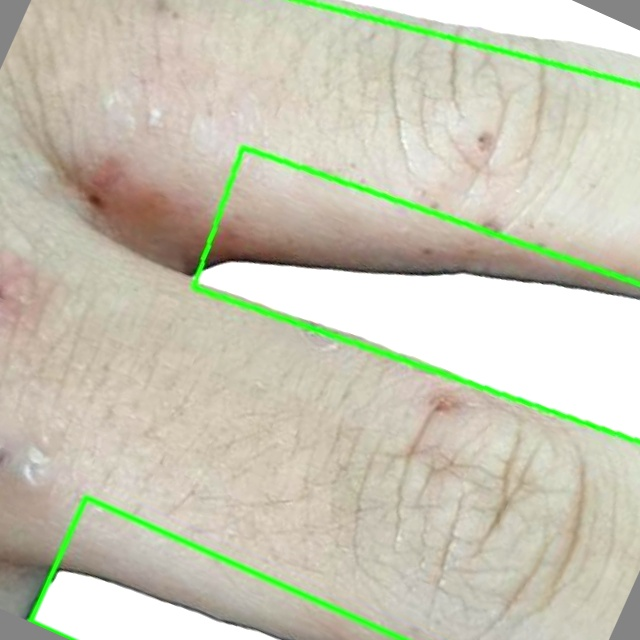Scabies: (193, 147, 639, 442)
